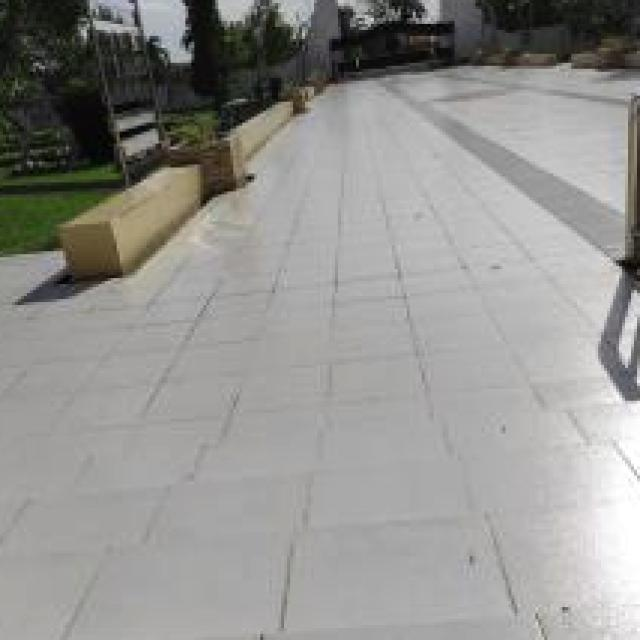downstair: (1, 452, 632, 640)
